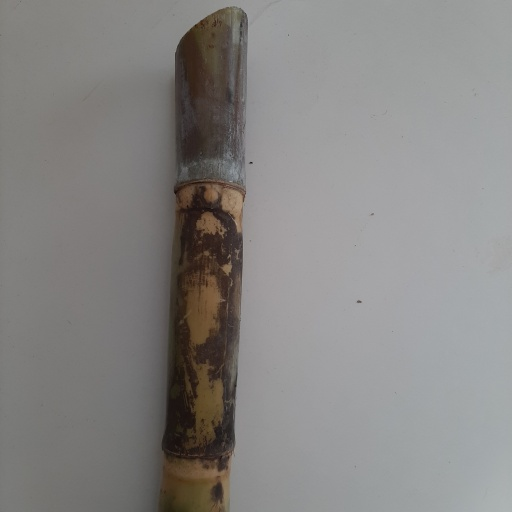Bud: (200, 184, 223, 207)
